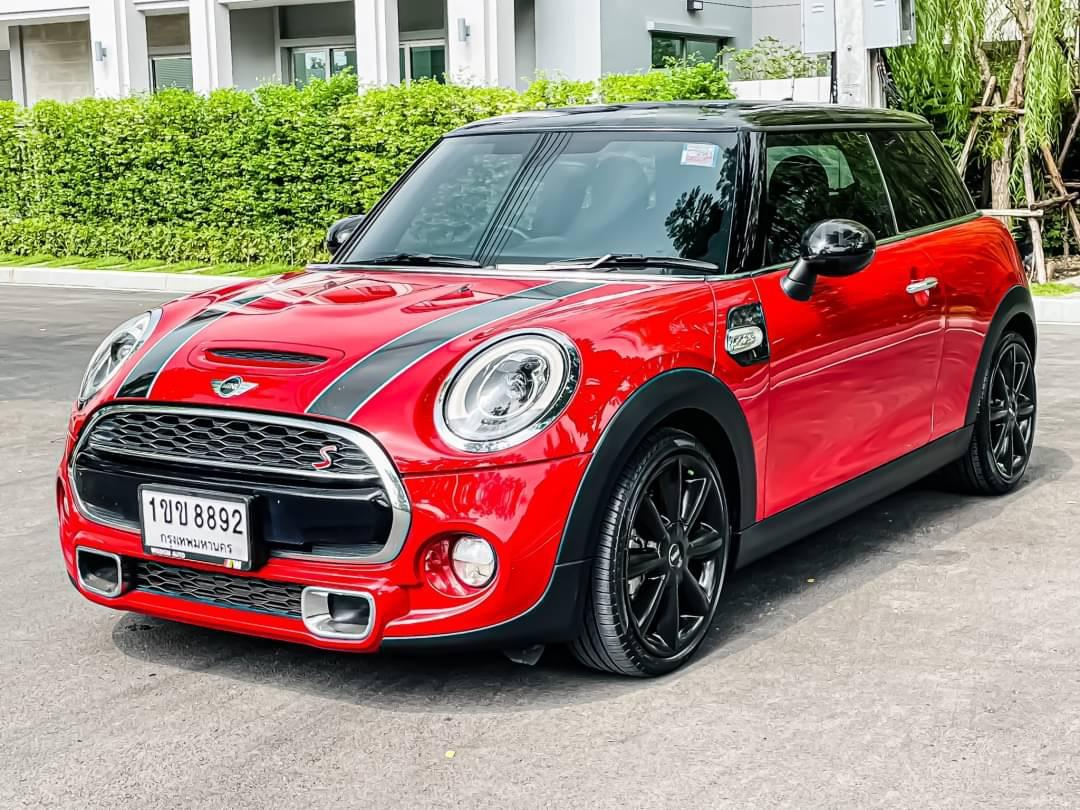license-plate: (134, 475, 260, 578)
